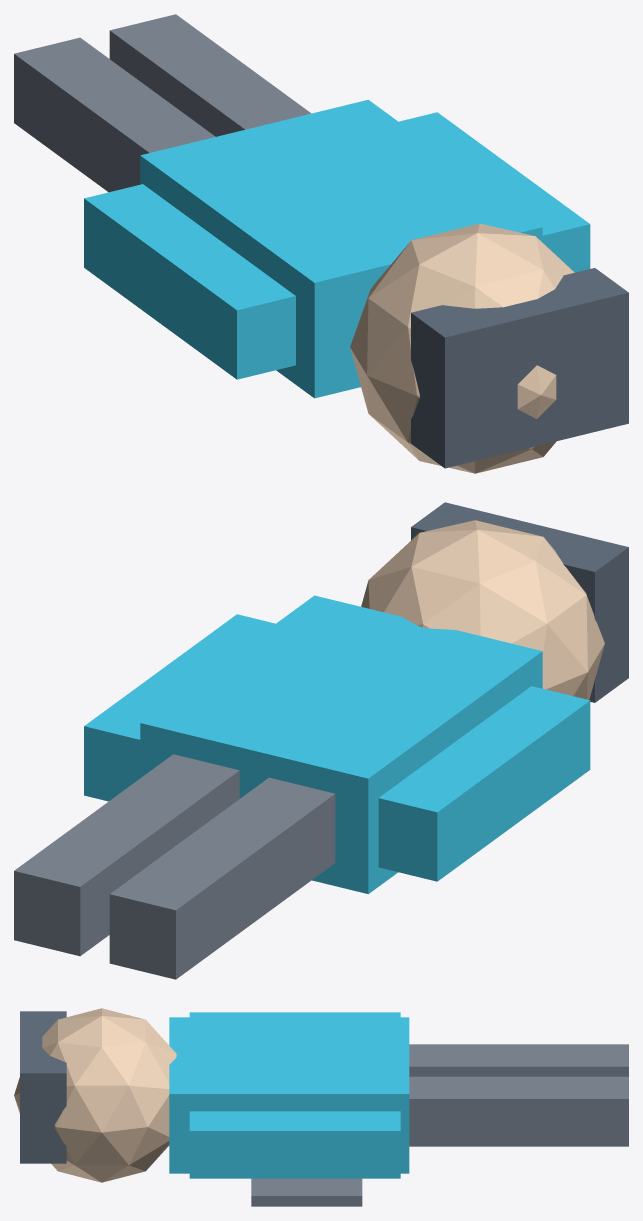
Rendered from data_ops.glb.
3 renders of one model, top to bottom at view 1: azimuth 30°, elevation 25°; view 2: azimuth 150°, elevation 25°; view 3: azimuth 270°, elevation 25°, orthographic. The views are drawn at different scales.
Parts seen in each view (by area): view 1: torso_2, hair_6, arm_l_3, head_5, leg_l_0, leg_r_1, arm_r_4; view 2: torso_2, leg_l_0, arm_l_3, head_5, leg_r_1, arm_r_4, hair_6; view 3: torso_2, head_5, leg_r_1, arm_r_4, leg_l_0, hair_6, tablet_7, arm_l_3.
Boxes of the visible parts, x1,y1,x2,y2 form: torso_2: (140, 99, 542, 398); hair_6: (411, 268, 628, 468); arm_l_3: (84, 184, 295, 379); head_5: (350, 223, 574, 473); leg_l_0: (14, 37, 215, 192); leg_r_1: (109, 14, 311, 136); arm_r_4: (399, 112, 590, 272); torso_2: (140, 595, 542, 894); leg_l_0: (109, 777, 335, 979); arm_l_3: (378, 686, 590, 881); head_5: (361, 520, 604, 699); leg_r_1: (14, 754, 239, 956); arm_r_4: (84, 614, 275, 801); hair_6: (411, 502, 628, 702); torso_2: (169, 1017, 409, 1173); head_5: (14, 1008, 176, 1182); leg_r_1: (409, 1076, 628, 1146); arm_r_4: (189, 1111, 400, 1178); leg_l_0: (409, 1044, 628, 1076); hair_6: (20, 1011, 66, 1163); tablet_7: (251, 1178, 362, 1206); arm_l_3: (189, 1012, 400, 1017).
Size of the model in its own units: 0.96 by 0.6 by 2.1.
